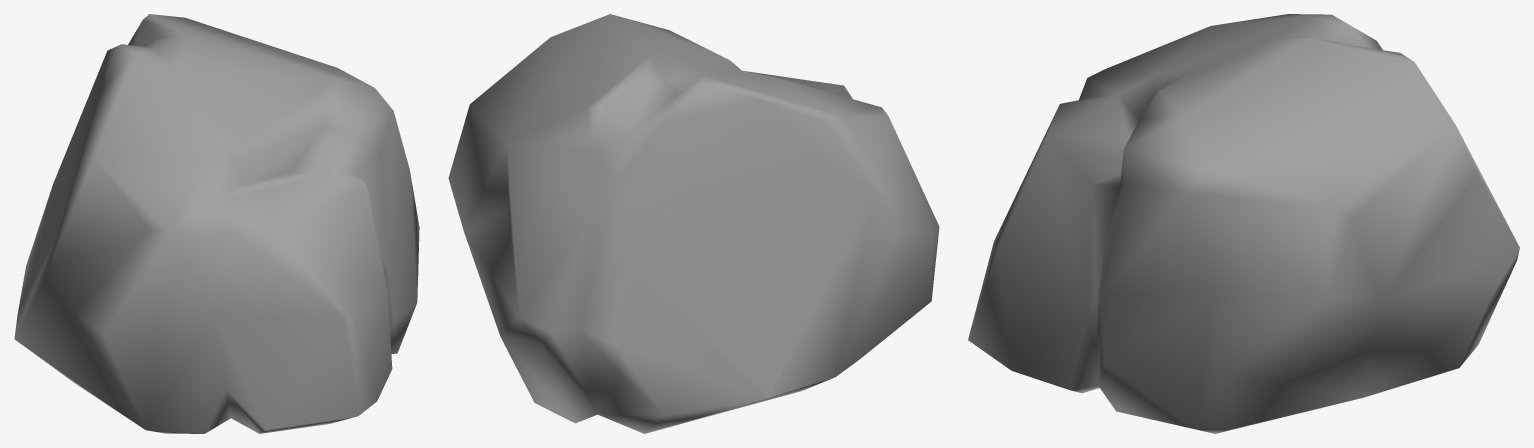
File: Batu10.fbx
3 views of the same model, side by side, from view 1: azimuth 30°, elevation 25°; view 2: azimuth 150°, elevation 25°; view 3: azimuth 270°, elevation 25° (orthographic). The views are drawn at different scales.
Visible parts, largest first — view 1: SM_Rocks_01; view 2: SM_Rocks_01; view 3: SM_Rocks_01.
Part boxes in pixels (left/top/right/bottom): SM_Rocks_01: left=14, top=14, right=419, bottom=433; SM_Rocks_01: left=448, top=14, right=939, bottom=433; SM_Rocks_01: left=968, top=14, right=1519, bottom=433.
Size of the model in its own units: 45.27 by 32.45 by 51.57.
